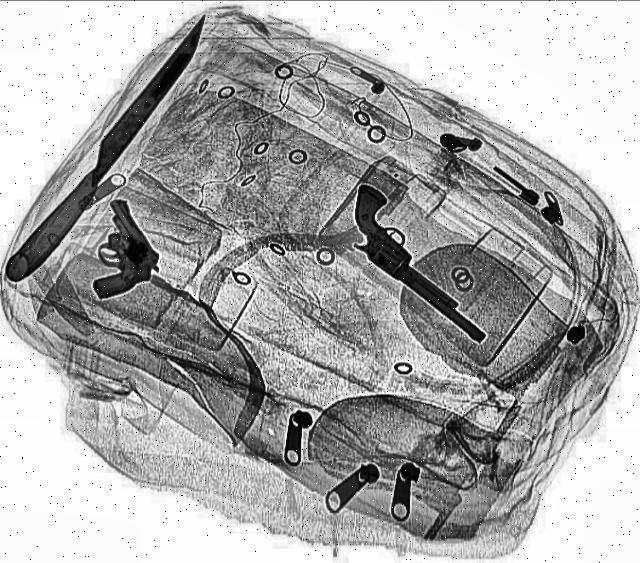Gun: (317, 182, 527, 344), (55, 198, 168, 302)
Knife: (1, 9, 220, 288)
